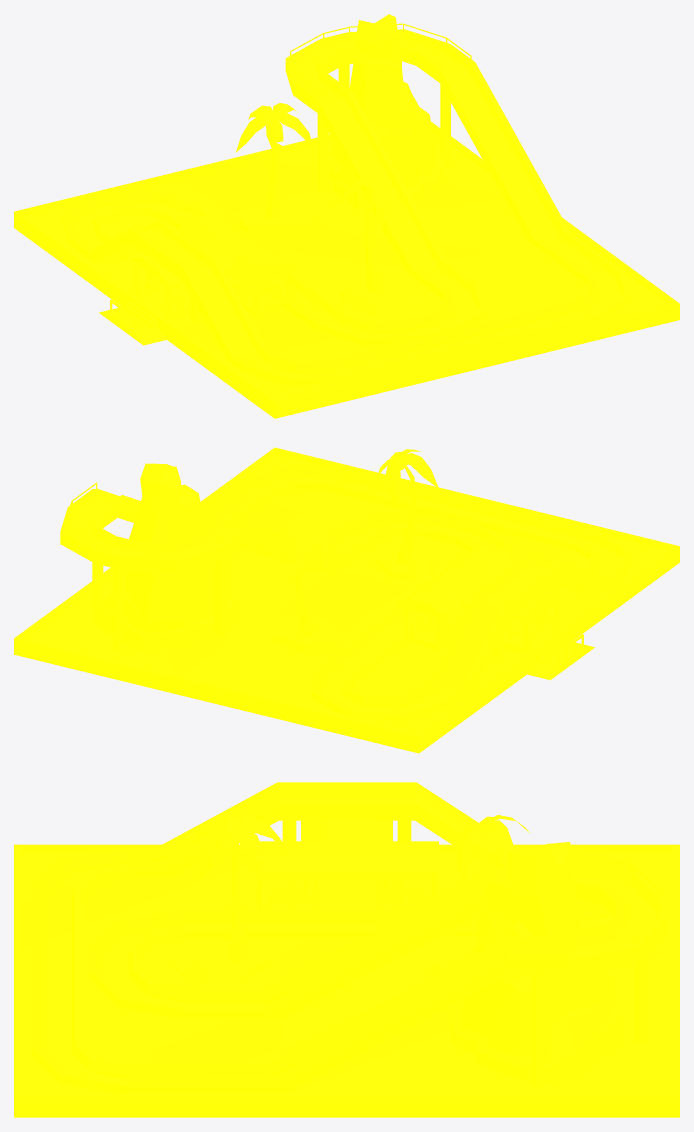
Rendered from water-ride.glb.
3 views of the same model, one above another, from view 1: azimuth 30°, elevation 25°; view 2: azimuth 150°, elevation 25°; view 3: azimuth 270°, elevation 25° (orthographic). The views are drawn at different scales.
Parts seen in each view (by area): view 1: water-ride; view 2: water-ride; view 3: water-ride.
Part boxes in pixels (box(x1,y1,x2,y2)): water-ride: box(14, 14, 679, 418); water-ride: box(14, 447, 679, 753); water-ride: box(14, 782, 679, 1117).
Size of the model in its own units: 27.5 by 10.78 by 29.
1 material, 1 textured.
